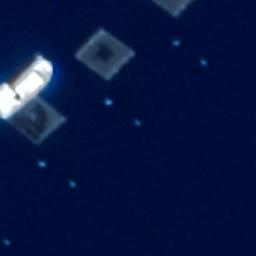square_cover: (7, 91, 73, 150), (74, 28, 138, 83), (152, 1, 196, 20)
